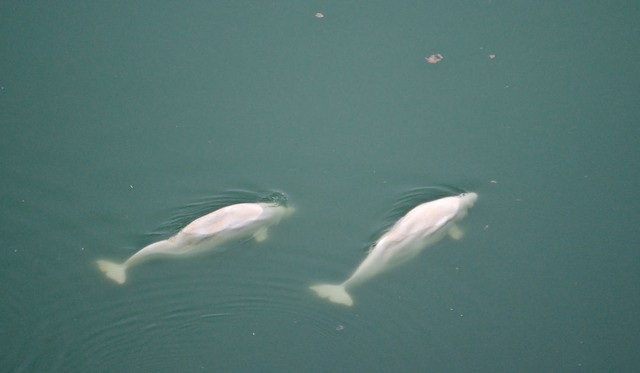whale: (305, 186, 483, 314), (91, 187, 299, 295)
